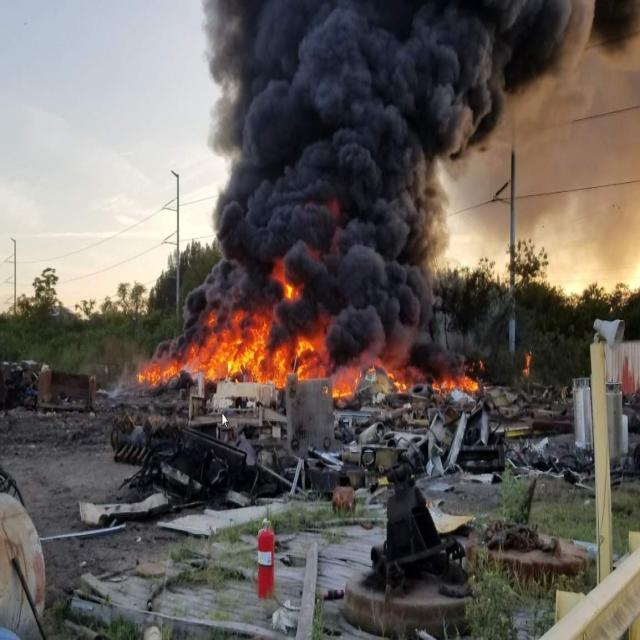Fire: (136, 280, 327, 388), (331, 363, 375, 398), (428, 373, 481, 394), (386, 369, 408, 396), (522, 353, 532, 378)
Smoke: (109, 1, 640, 399)
